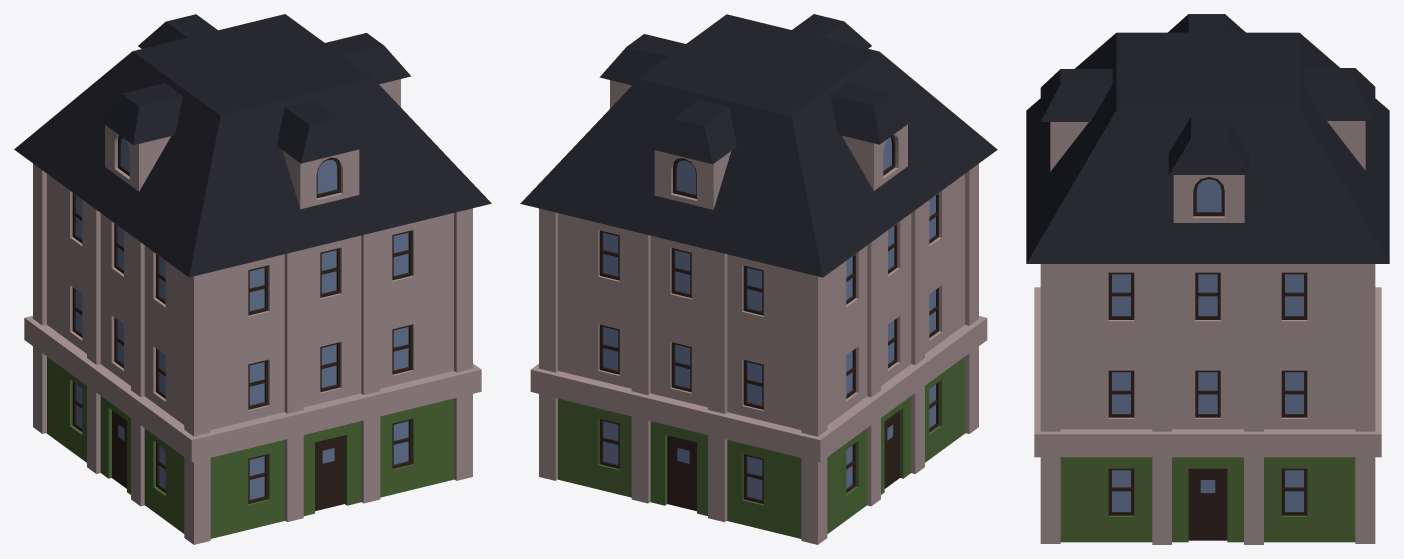
The model's file is GovernmentBuilding_02.fbx.
The picture shows the model from 3 angles, left to right: view 1: azimuth 30°, elevation 25°; view 2: azimuth 150°, elevation 25°; view 3: azimuth 270°, elevation 25°; orthographic projection. The views are drawn at different scales.
Parts seen in each view (by area): view 1: GovernmentBuilding_02; view 2: GovernmentBuilding_02; view 3: GovernmentBuilding_02.
Part boxes in pixels (bbox=[...]): GovernmentBuilding_02: bbox=[14, 14, 491, 544]; GovernmentBuilding_02: bbox=[520, 14, 997, 544]; GovernmentBuilding_02: bbox=[1026, 14, 1389, 544].
Bounding box in the file's own units: 12.98 × 15.88 × 12.98.
